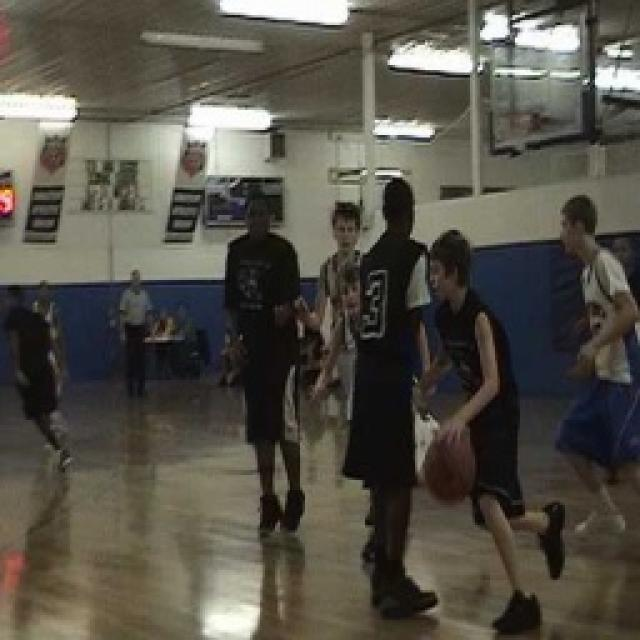rim: (422, 430, 476, 508)
